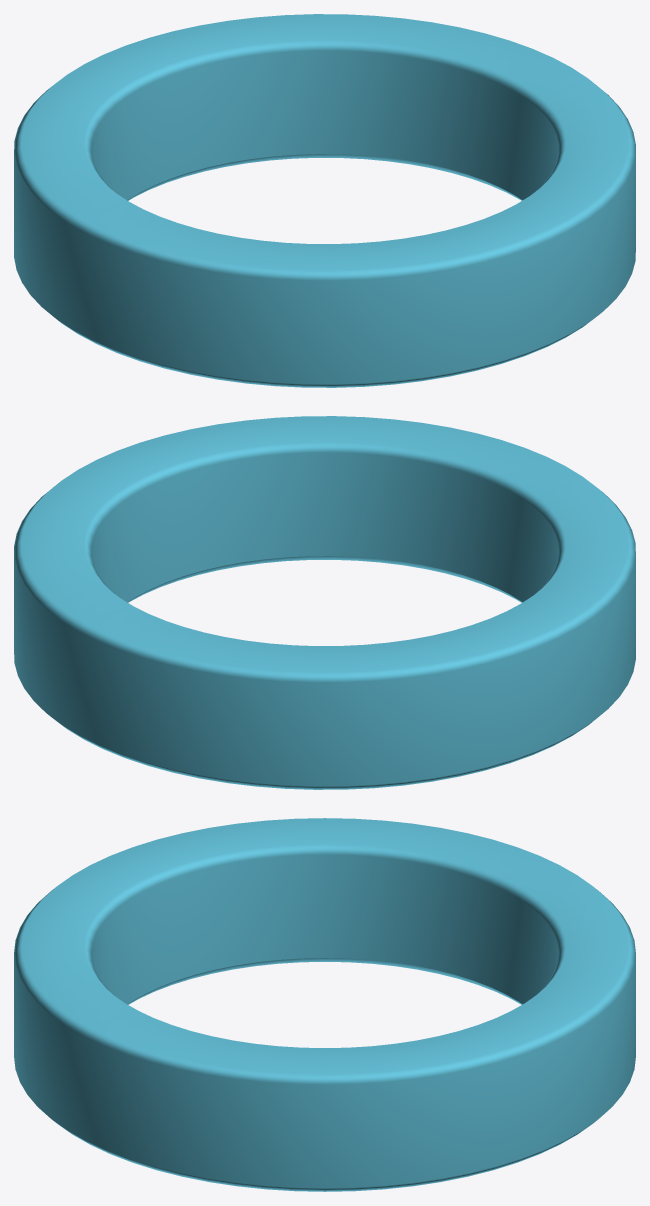
3 renders of one model, top to bottom at view 1: azimuth 30°, elevation 25°; view 2: azimuth 150°, elevation 25°; view 3: azimuth 270°, elevation 25°, orthographic.
Parts seen in each view (by area): view 1: seal_body; view 2: seal_body; view 3: seal_body.
Boxes of the visible parts, bbox=[...] form: seal_body: bbox=[14, 14, 635, 387]; seal_body: bbox=[14, 416, 635, 789]; seal_body: bbox=[14, 818, 635, 1191].
Bounding box in the file's own units: 0.0762 × 0.0159 × 0.0762.
